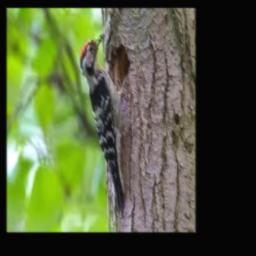Woodpecker: (80, 32, 130, 216)
